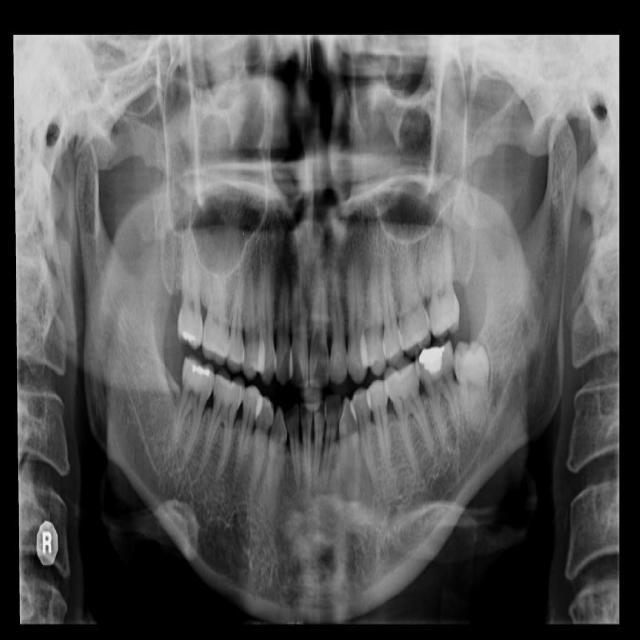52: (170, 352, 224, 404), (410, 337, 461, 391), (175, 307, 205, 351)
73: (594, 592, 602, 602)
BioHorizons Implant: (423, 207, 461, 342)
Biomet 3i Implant: (450, 339, 491, 433)
Blue Sky Bio Implant: (413, 338, 464, 449)
Caries: (176, 223, 208, 350)
Implant: (170, 352, 218, 460)
